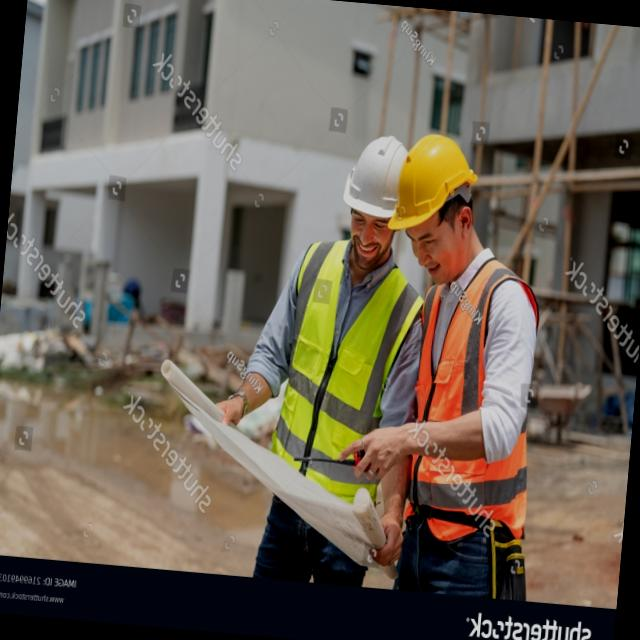helmet: (386, 116, 492, 250), (335, 131, 413, 217)
no-goggles: (392, 208, 456, 264), (332, 203, 393, 247)
vest: (391, 234, 554, 540), (260, 249, 414, 508)
